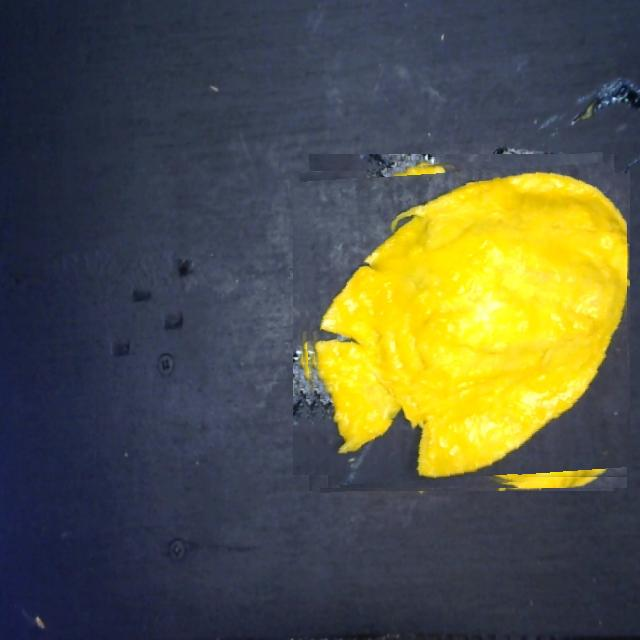biodegradable: (296, 157, 627, 488)
